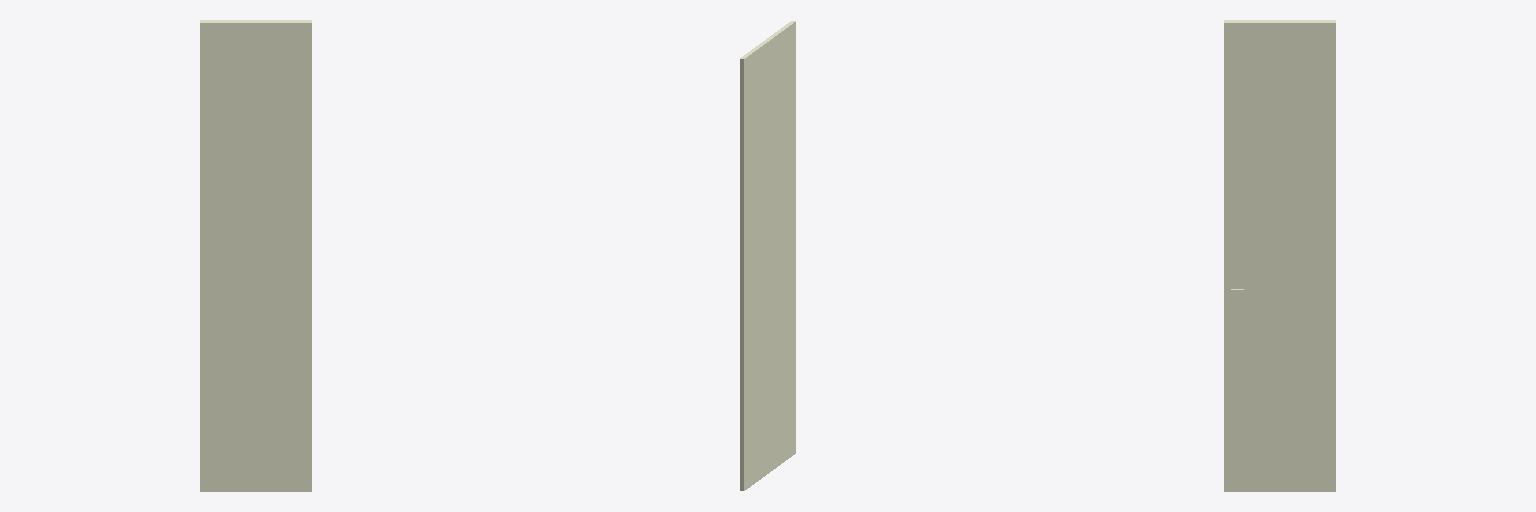
robot.urdf — kokuyo-450-locker:
<?xml version="1.0"?>
<robot name="kokuyo-450-locker"
       xmlns:xi="http://www.w3.org/2001/XInclude"
       xmlns:gazebo="http://playerstage.sourceforge.net/gazebo/xmlschema/#gz"
       xmlns:model="http://playerstage.sourceforge.net/gazebo/xmlschema/#model"
       xmlns:sensor="http://playerstage.sourceforge.net/gazebo/xmlschema/#sensor"
       xmlns:body="http://playerstage.sourceforge.net/gazebo/xmlschema/#body"
       xmlns:geom="http://playerstage.sourceforge.net/gazebo/xmlschema/#geom"
       xmlns:joint="http://playerstage.sourceforge.net/gazebo/xmlschema/#joint"
       xmlns:interface="http://playerstage.sourceforge.net/gazebo/xmlschema/#interface"
       xmlns:rendering="http://playerstage.sourceforge.net/gazebo/xmlschema/#rendering"
       xmlns:renderable="http://playerstage.sourceforge.net/gazebo/xmlschema/#renderable"
       xmlns:controller="http://playerstage.sourceforge.net/gazebo/xmlschema/#controller"
       xmlns:physics="http://playerstage.sourceforge.net/gazebo/xmlschema/#physics">
  <gazebo>
    <static>false</static>
  </gazebo>
  <link name="ROOT_link">
    <visual>
      <origin xyz="0 0 0" rpy="0 -0 0"/>
      <geometry>
        <mesh filename="model://kokuyo-450-locker/meshes/ROOT_link_mesh.dae" scale="1 1 1" />
      </geometry>
    </visual>
    <collision>
      <origin xyz="0 0 0" rpy="0 -0 0"/>
      <geometry>
        <mesh filename="model://kokuyo-450-locker/meshes/ROOT_link_mesh.dae" scale="1 1 1" />
      </geometry>
    </collision>
    <inertial>
      <mass value="0.001" />
      <origin xyz="0 0 0" rpy="0 -0 0"/>
      <inertia ixx="1e-09" ixy="0" ixz="0" iyy="1e-09" iyz="0" izz="1e-09"/>
    </inertial>
  </link>
  <gazebo reference="ROOT_link">
    <mu1>0.9</mu1>
    <mu2>0.9</mu2>
  </gazebo>
  <link name="KOKUYO-450-LOCKER-BODYSET2_link">
    <visual>
      <origin xyz="0.215 0.215 0.06" rpy="0 -0 0"/>
      <geometry>
        <mesh filename="model://kokuyo-450-locker/meshes/KOKUYO-450-LOCKER-BODYSET2_link_mesh.dae" scale="1 1 1" />
      </geometry>
    </visual>
    <collision>
      <origin xyz="0.215 0.215 0.06" rpy="0 -0 0"/>
      <geometry>
        <mesh filename="model://kokuyo-450-locker/meshes/KOKUYO-450-LOCKER-BODYSET2_link_mesh.dae" scale="1 1 1" />
      </geometry>
    </collision>
    <inertial>
      <mass value="0.001" />
      <origin xyz="0 0 0" rpy="0 -0 0"/>
      <inertia ixx="1e-09" ixy="0" ixz="0" iyy="1e-09" iyz="0" izz="1e-09"/>
    </inertial>
  </link>
  <gazebo reference="KOKUYO-450-LOCKER-BODYSET2_link">
    <mu1>0.9</mu1>
    <mu2>0.9</mu2>
  </gazebo>
  <joint name="DOOR" type="revolute">
    <parent link="ROOT_link"/>
    <child  link="KOKUYO-450-LOCKER-BODYSET2_link"/>
    <origin xyz="0.215 0.215 0.06" rpy="0 -0 0 "/>
    <axis   xyz="0 0 1"/>
    <limit lower="0" upper="1.5708" effort="100" velocity="0.5" />
    <dynamics damping="0.2" friction="0" />
  </joint>
  <transmission type="pr2_mechanism_model/SimpleTransmission" name="DOOR_trans" >
    <actuator name="DOOR_motor" />
    <joint name="DOOR" />
    <mechanicalReduction>1</mechanicalReduction>
  </transmission>
  <gazebo reference="DOOR">
    <cfmDamping>0.4</cfmDamping>
  </gazebo>
</robot>

--- What the picture shows (computed from the rendered views, not written in the file) ---
The picture shows the robot from 3 angles, left to right: view 1: azimuth 90°, elevation 25°; view 2: azimuth 150°, elevation 25°; view 3: azimuth 270°, elevation 25°; orthographic projection.
Robot: kokuyo-450-locker — 2 links, 1 joints (1 revolute); root link ROOT_link; default pose: all joints at 0.
Links seen in each view (by area): view 1: KOKUYO-450-LOCKER-BODYSET2_link; view 2: KOKUYO-450-LOCKER-BODYSET2_link; view 3: KOKUYO-450-LOCKER-BODYSET2_link.
Boxes of the visible links, <box> form: KOKUYO-450-LOCKER-BODYSET2_link: <box>200,20,311,491</box>; KOKUYO-450-LOCKER-BODYSET2_link: <box>740,21,795,490</box>; KOKUYO-450-LOCKER-BODYSET2_link: <box>1224,20,1335,491</box>.
Bounding box of the posed robot: 0.02 × 0.45 × 2.07 m (x, y, z).
Meshes: 2 distinct files referenced, 1 mesh visuals loaded (1 Collada DAE); not drawn: 1 (reference not matched to a file when rendering).
